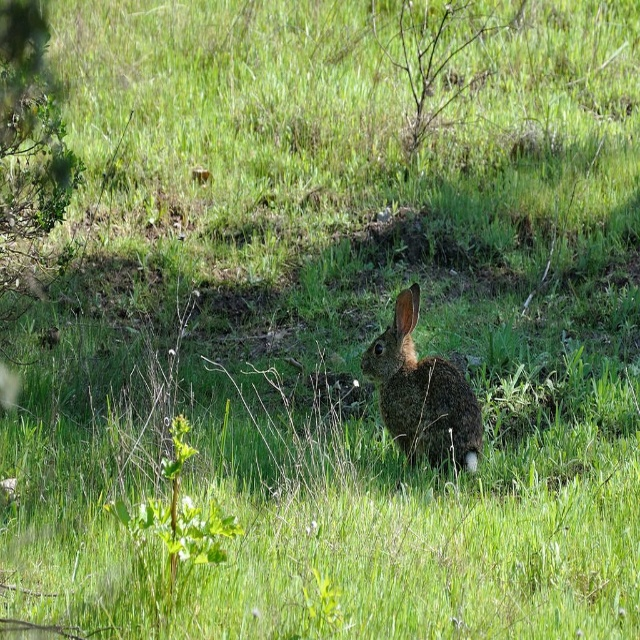Rabbit: (358, 280, 485, 478)
